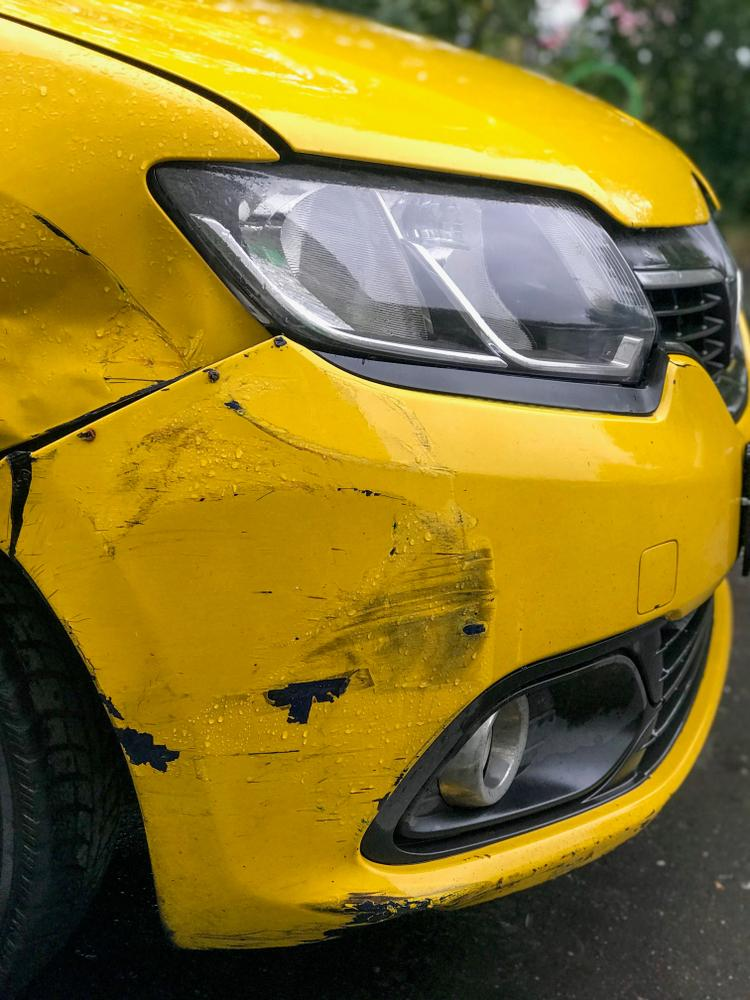crack: (7, 452, 33, 558)
dent: (0, 171, 273, 454)
scratch: (248, 495, 499, 715), (200, 848, 590, 954), (97, 400, 324, 537), (100, 688, 186, 778)
